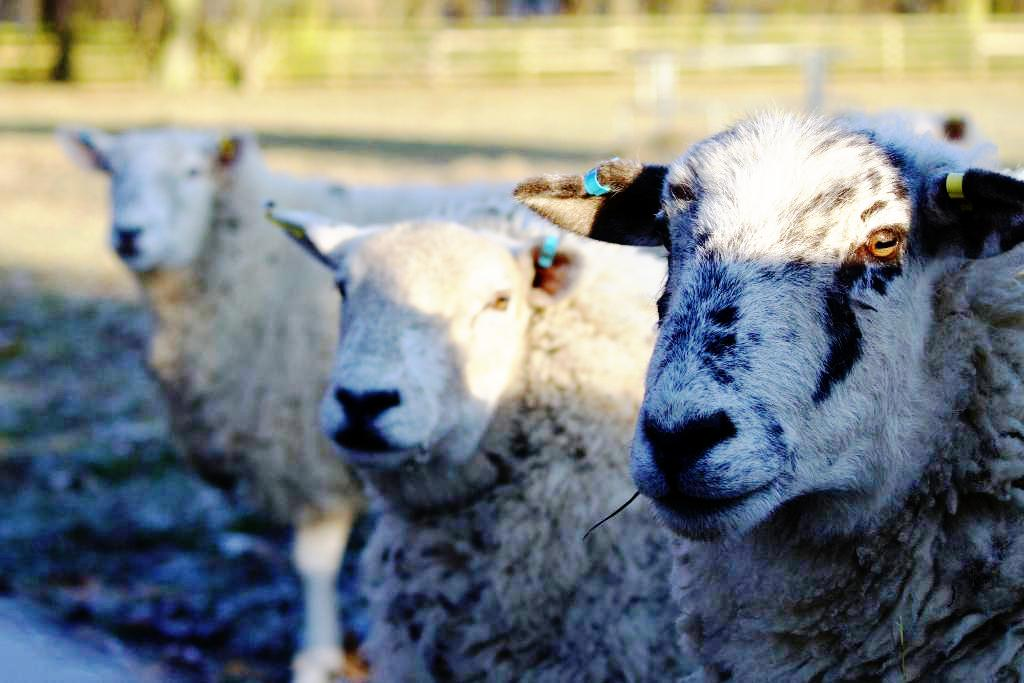Sheep: (514, 106, 1023, 681), (40, 132, 518, 682), (262, 212, 690, 682)
